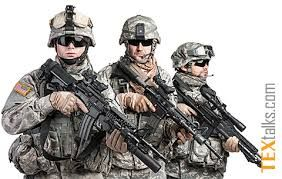gun: (50, 69, 157, 165), (117, 59, 217, 152), (173, 81, 258, 164)
uniform: (17, 14, 102, 174), (106, 11, 171, 172), (169, 36, 227, 175)
